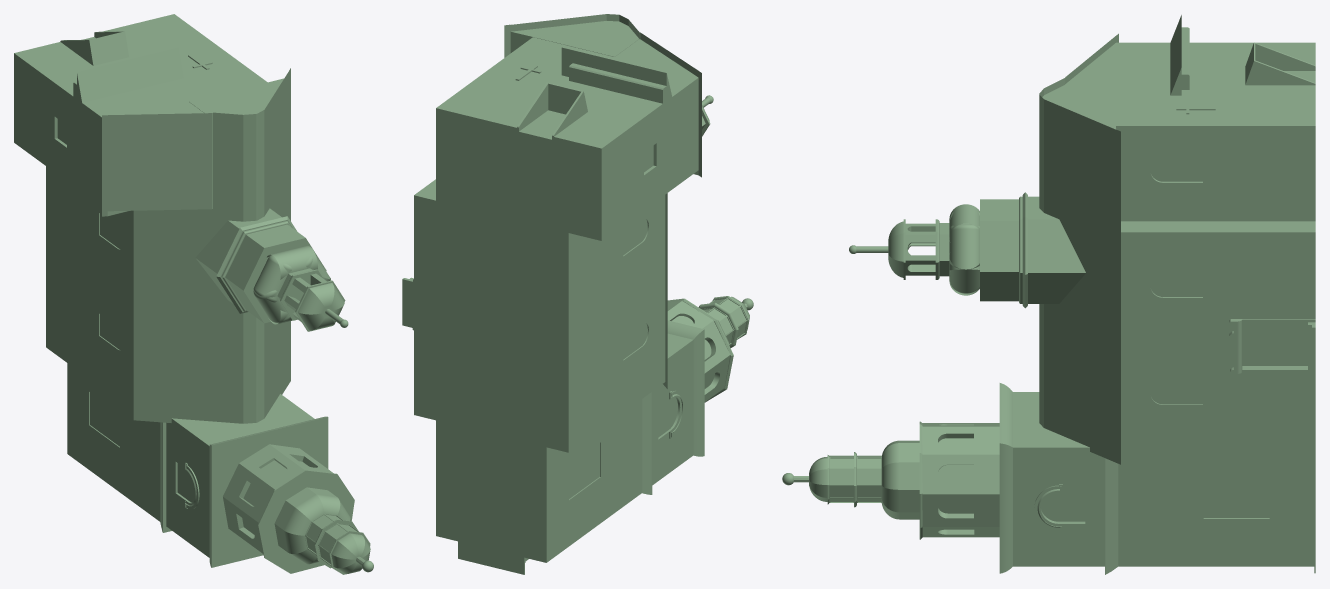
File: bugaj Angelika Stalka.obj
3 views of the same model, side by side, from view 1: azimuth 30°, elevation 25°; view 2: azimuth 150°, elevation 25°; view 3: azimuth 270°, elevation 25° (orthographic). The views are drawn at different scales.
Visible parts, largest first — view 1: bugaj Angelika Stalka\Ciało stałe, bugaj Angelika Stalka\Ciało stałe (4), bugaj Angelika Stalka\Powierzchnia (14), bugaj Angelika Stalka\Powierzchnia (16), bugaj Angelika Stalka\Powierzchnia (20), bugaj Angelika Stalka\Powierzchnia (30), bugaj Angelika Stalka\Powierzchnia (7), bugaj Angelika Stalka\Powierzchnia (13); view 2: bugaj Angelika Stalka\Ciało stałe, bugaj Angelika Stalka\Powierzchnia (16), bugaj Angelika Stalka\Powierzchnia (14), bugaj Angelika Stalka\Powierzchnia (7), bugaj Angelika Stalka\Powierzchnia (30); view 3: bugaj Angelika Stalka\Ciało stałe, bugaj Angelika Stalka\Ciało stałe (4), bugaj Angelika Stalka\Powierzchnia (16), bugaj Angelika Stalka\Powierzchnia (19), bugaj Angelika Stalka\Powierzchnia (7), bugaj Angelika Stalka\Powierzchnia (18).
Part boxes in pixels (left/top/right/bottom): bugaj Angelika Stalka\Ciało stałe: left=14, top=14, right=370, bottom=574; bugaj Angelika Stalka\Ciało stałe (4): left=277, top=268, right=348, bottom=331; bugaj Angelika Stalka\Powierzchnia (14): left=133, top=210, right=171, bottom=422; bugaj Angelika Stalka\Powierzchnia (16): left=213, top=68, right=290, bottom=382; bugaj Angelika Stalka\Powierzchnia (20): left=267, top=245, right=317, bottom=279; bugaj Angelika Stalka\Powierzchnia (30): left=107, top=113, right=212, bottom=121; bugaj Angelika Stalka\Powierzchnia (7): left=318, top=523, right=359, bottom=566; bugaj Angelika Stalka\Powierzchnia (13): left=102, top=115, right=107, bottom=216; bugaj Angelika Stalka\Ciało stałe: left=402, top=21, right=749, bottom=574; bugaj Angelika Stalka\Powierzchnia (16): left=504, top=14, right=639, bottom=57; bugaj Angelika Stalka\Powierzchnia (14): left=663, top=193, right=667, bottom=388; bugaj Angelika Stalka\Powierzchnia (7): left=709, top=297, right=747, bottom=339; bugaj Angelika Stalka\Powierzchnia (30): left=639, top=32, right=698, bottom=77; bugaj Angelika Stalka\Ciało stałe: left=809, top=15, right=1315, bottom=574; bugaj Angelika Stalka\Ciało stałe (4): left=849, top=219, right=949, bottom=279; bugaj Angelika Stalka\Powierzchnia (16): left=1039, top=78, right=1120, bottom=464; bugaj Angelika Stalka\Powierzchnia (19): left=949, top=224, right=979, bottom=270; bugaj Angelika Stalka\Powierzchnia (7): left=829, top=455, right=853, bottom=502; bugaj Angelika Stalka\Powierzchnia (18): left=949, top=252, right=979, bottom=293.
Bounding box in the file's own units: 18.46 × 40.91 × 40.59.
